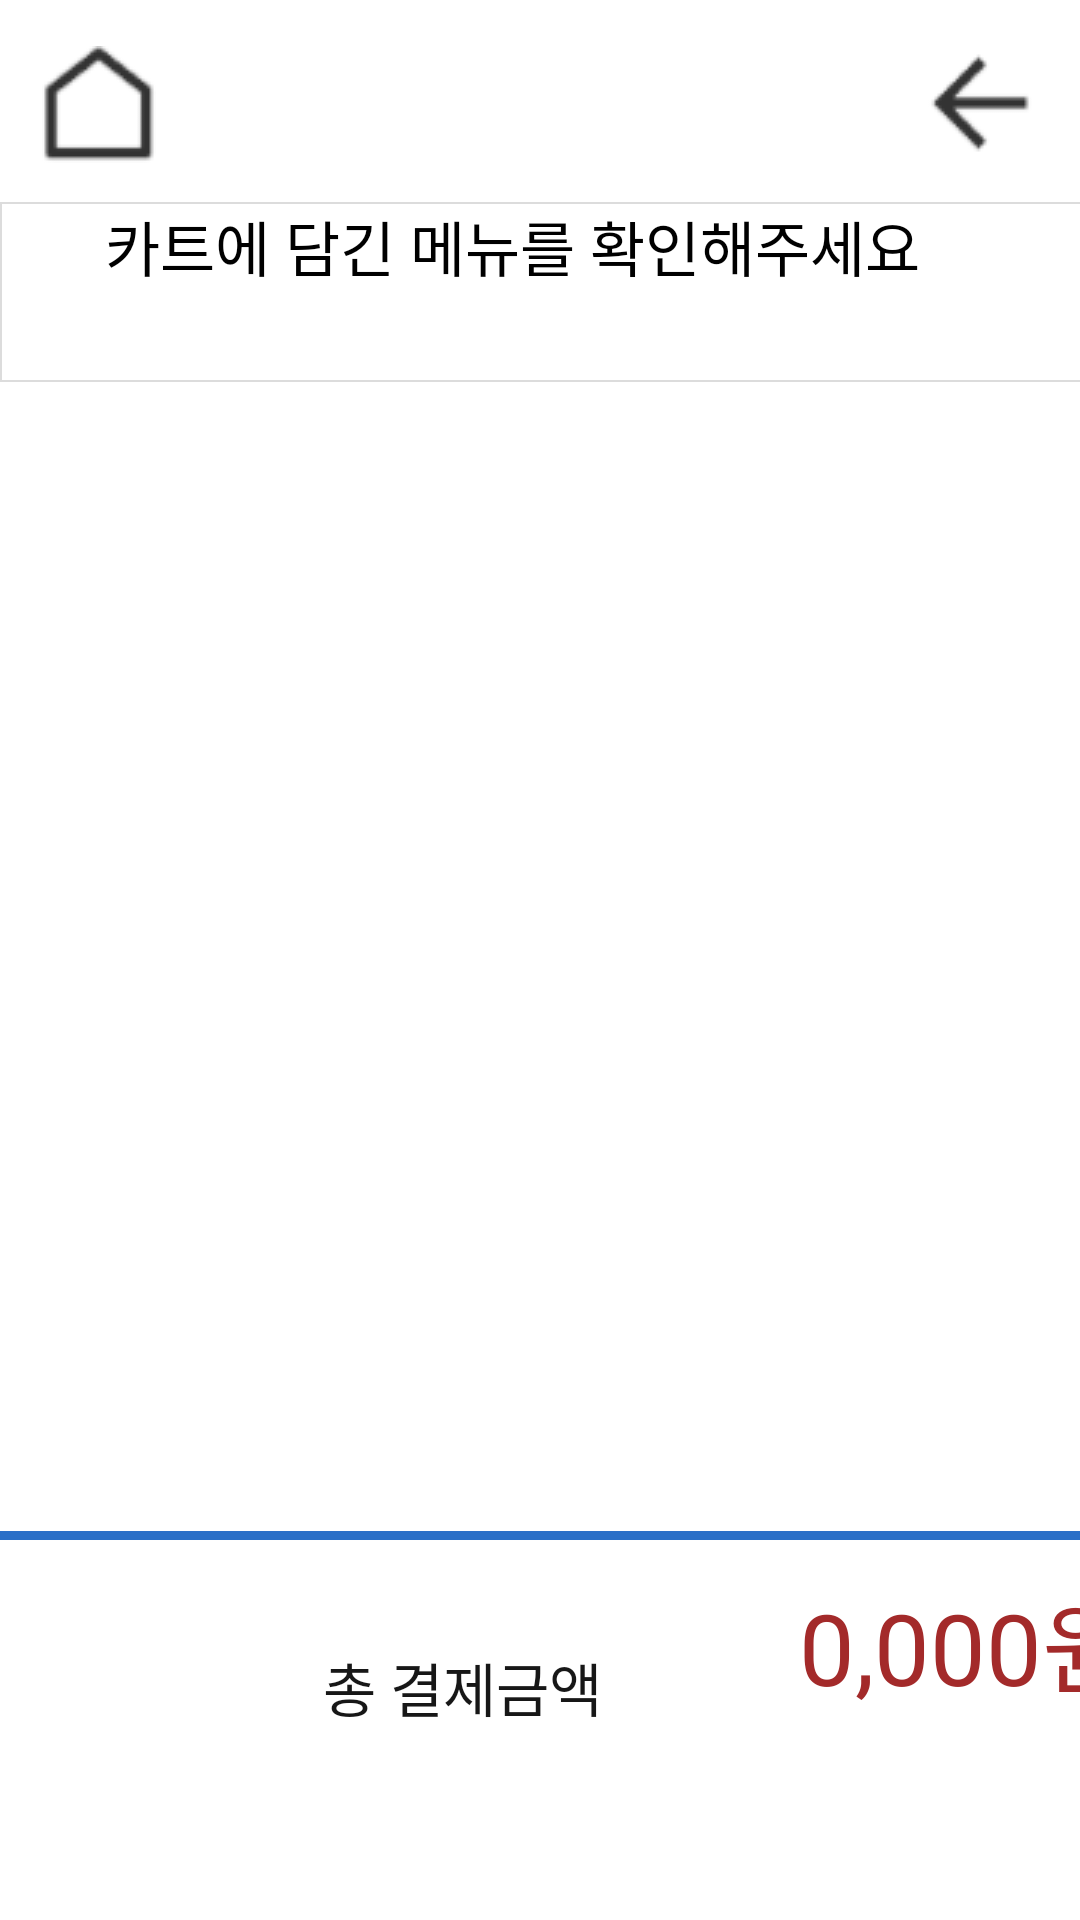

Where icons sit on this 1080 × 1920 app screen, as (x1, y1, x2, y2):
top home: (44, 46, 154, 161)
